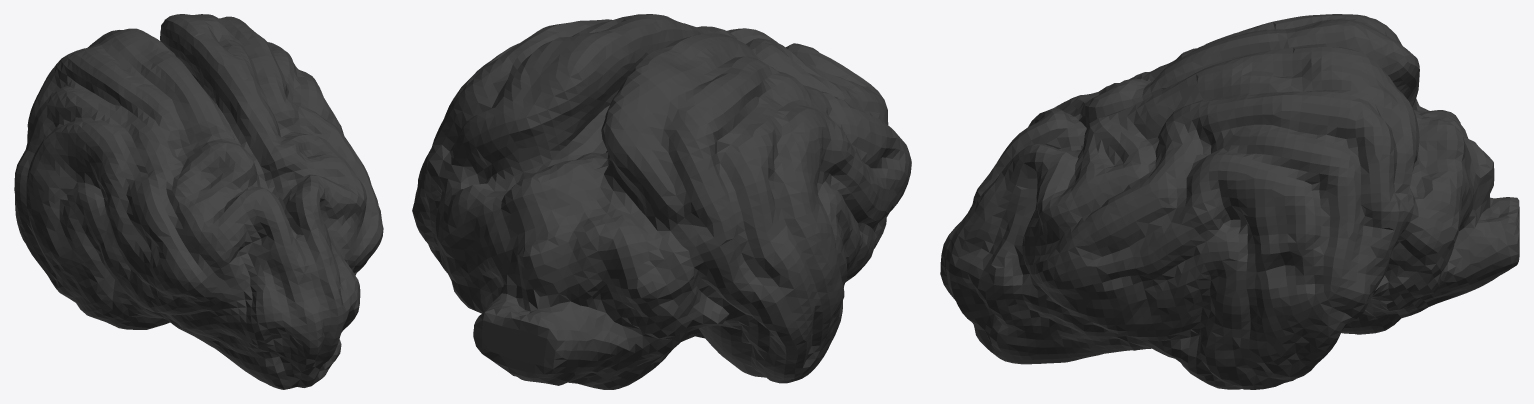
Rendered from 4DMax_Specimens_Canine_Brain_Dec25.glb.
The picture shows the model from 3 angles, left to right: view 1: azimuth 30°, elevation 25°; view 2: azimuth 150°, elevation 25°; view 3: azimuth 270°, elevation 25°; orthographic projection. The views are drawn at different scales.
Visible parts, largest first — view 1: 4DMax_Specimens_Canine_Brain_Dec25; view 2: 4DMax_Specimens_Canine_Brain_Dec25; view 3: 4DMax_Specimens_Canine_Brain_Dec25.
Part boxes in pixels (box(x1,y1,x2,y2)): 4DMax_Specimens_Canine_Brain_Dec25: box(14, 14, 383, 389); 4DMax_Specimens_Canine_Brain_Dec25: box(412, 14, 911, 389); 4DMax_Specimens_Canine_Brain_Dec25: box(940, 14, 1519, 389).
Size of the model in its own units: 1079 by 927 by 1525.
Materials: 1 (1 with a texture image).
